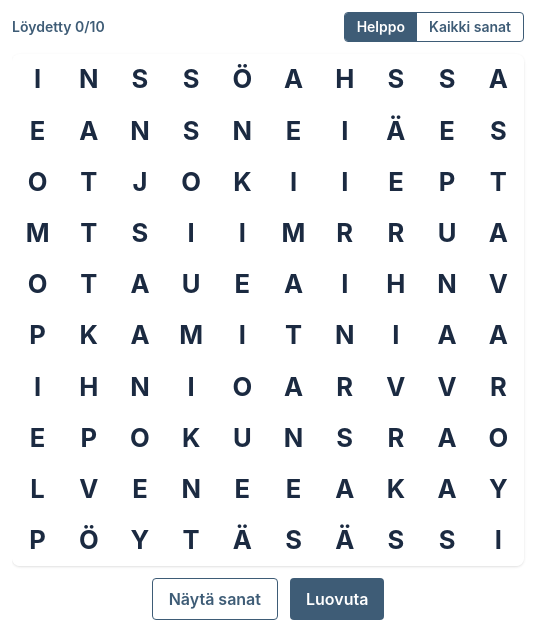
Test case: SanapiiloGame › reveals the remaining words and records an unsolved game when giving up
Click the button "Luovuta". click: click(337, 599)
box: 290,578 -> 384,620
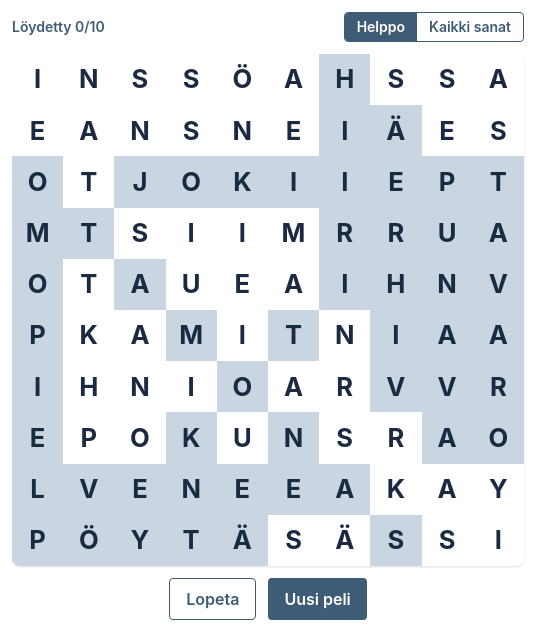
Expected: the 1st cell "H" is shown, 319,54 -> 370,105
Expected: the button "Uusi peli" is shown, 268,578 -> 367,620
